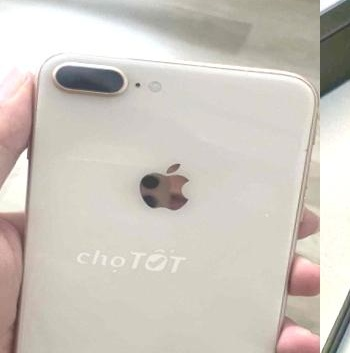scratch: (259, 209, 273, 218), (304, 141, 311, 156)
